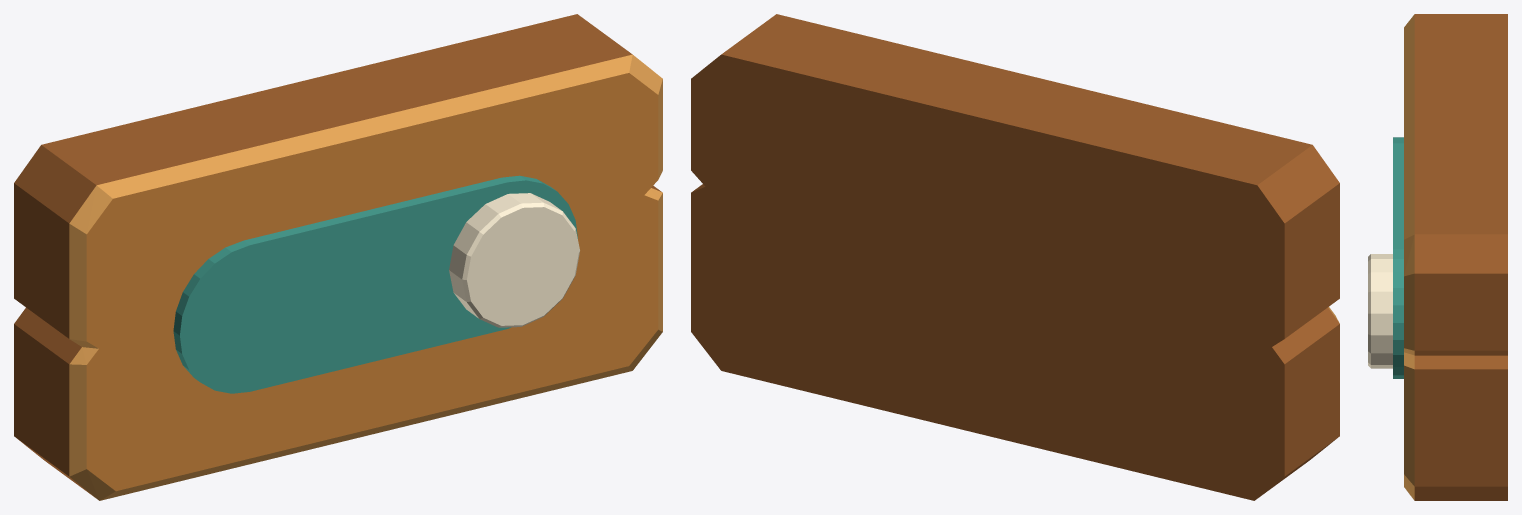
The model's file is SwitchOn.fbx.
3 renders of one model, left to right at view 1: azimuth 30°, elevation 25°; view 2: azimuth 150°, elevation 25°; view 3: azimuth 270°, elevation 25°, orthographic. The views are drawn at different scales.
Visible parts, largest first — view 1: Stone, Track, Handle; view 2: Stone; view 3: Stone, Handle, Track.
Part boxes in pixels (left/top/right/bottom): Stone: left=14, top=14, right=662, bottom=500; Track: left=173, top=175, right=577, bottom=393; Handle: left=449, top=193, right=579, bottom=327; Stone: left=691, top=14, right=1339, bottom=500; Stone: left=1404, top=14, right=1507, bottom=500; Handle: left=1368, top=254, right=1392, bottom=368; Track: left=1393, top=137, right=1403, bottom=378.
Bounding box in the file's own units: 0.161 × 0.082 × 0.039.
